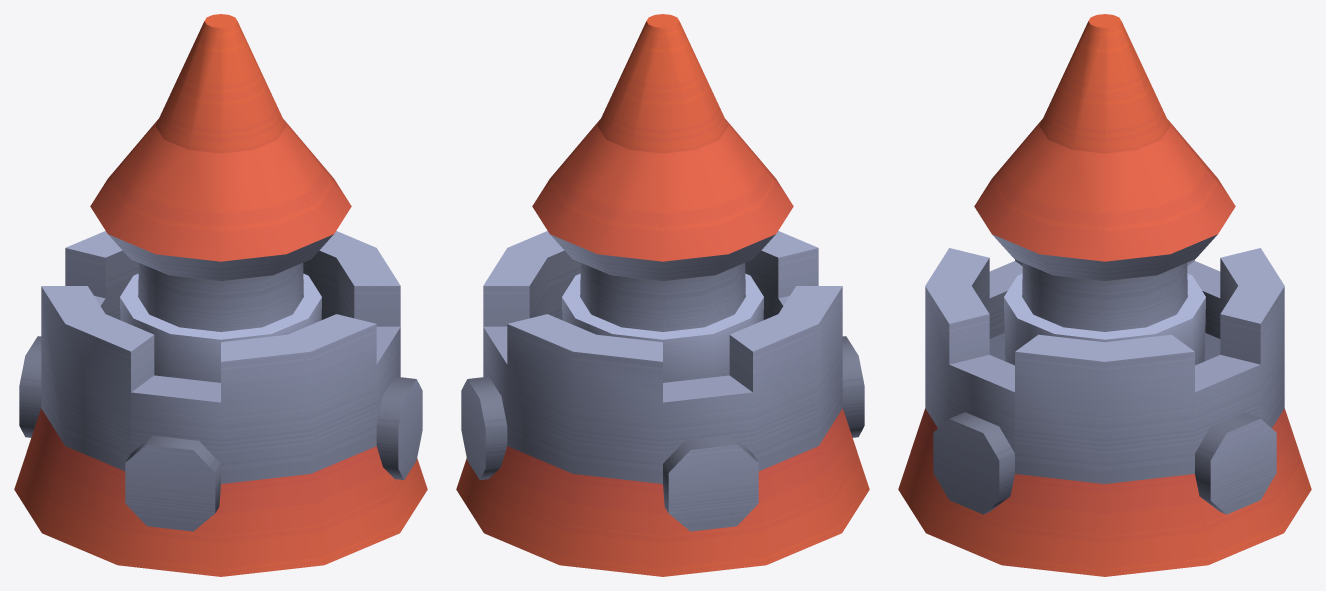
Rendered from tower-round-roof-a.glb.
3 views of the same model, side by side, from view 1: azimuth 30°, elevation 25°; view 2: azimuth 150°, elevation 25°; view 3: azimuth 270°, elevation 25° (orthographic).
Parts seen in each view (by area): view 1: tower-round-roof-a; view 2: tower-round-roof-a; view 3: tower-round-roof-a.
Boxes of the visible parts, x1,y1,x2,y2 form: tower-round-roof-a: (14,14,427,576); tower-round-roof-a: (456,14,869,576); tower-round-roof-a: (898,14,1311,576).
Size of the model in its own units: 2.76 by 3.45 by 2.76.
1 material, 1 textured.
